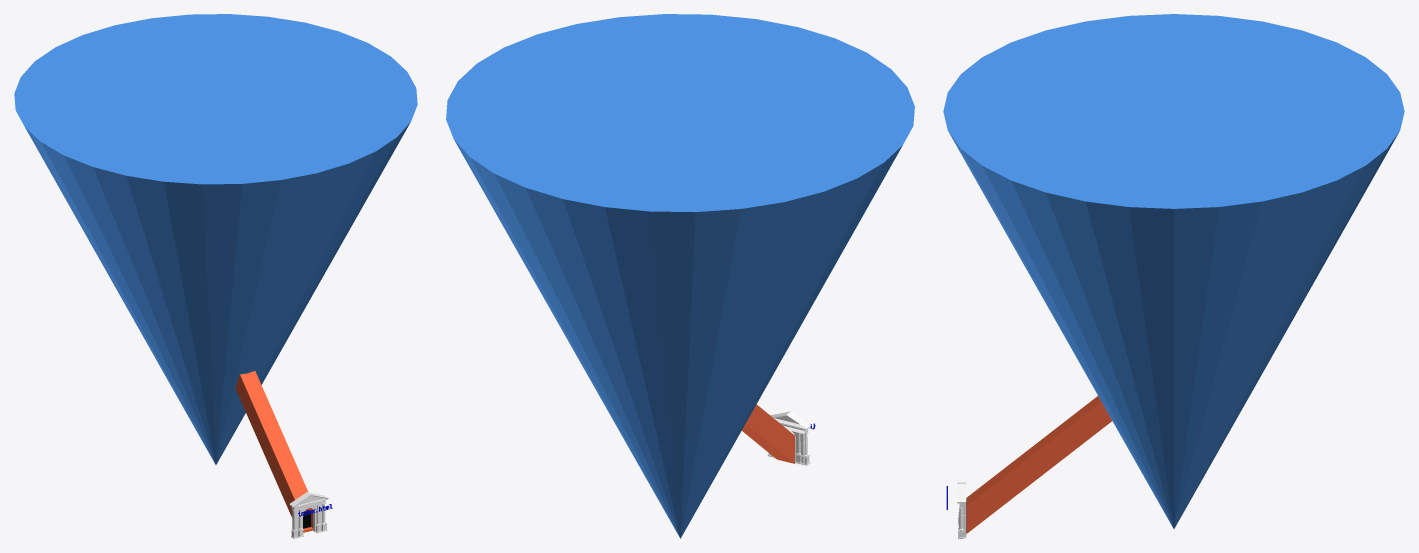
The model's file is entrance_facade.003.glb.
3 renders of one model, left to right at view 1: azimuth 30°, elevation 25°; view 2: azimuth 150°, elevation 25°; view 3: azimuth 270°, elevation 25°, orthographic. The views are drawn at different scales.
Parts seen in each view (by area): view 1: Cone, Cube; view 2: Cone, Cube; view 3: Cone, Cube.
Part boxes in pixels (x1,y1,x2,y2): Cone: [14, 14, 417, 464]; Cube: [235, 371, 312, 532]; Cone: [446, 14, 914, 538]; Cube: [742, 404, 794, 463]; Cone: [943, 14, 1404, 528]; Cube: [966, 396, 1111, 533].
Bounding box in the file's own units: 30.02 × 30.02 × 30.02.
